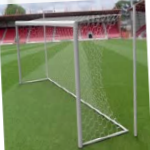goals: (14, 14, 130, 147)
